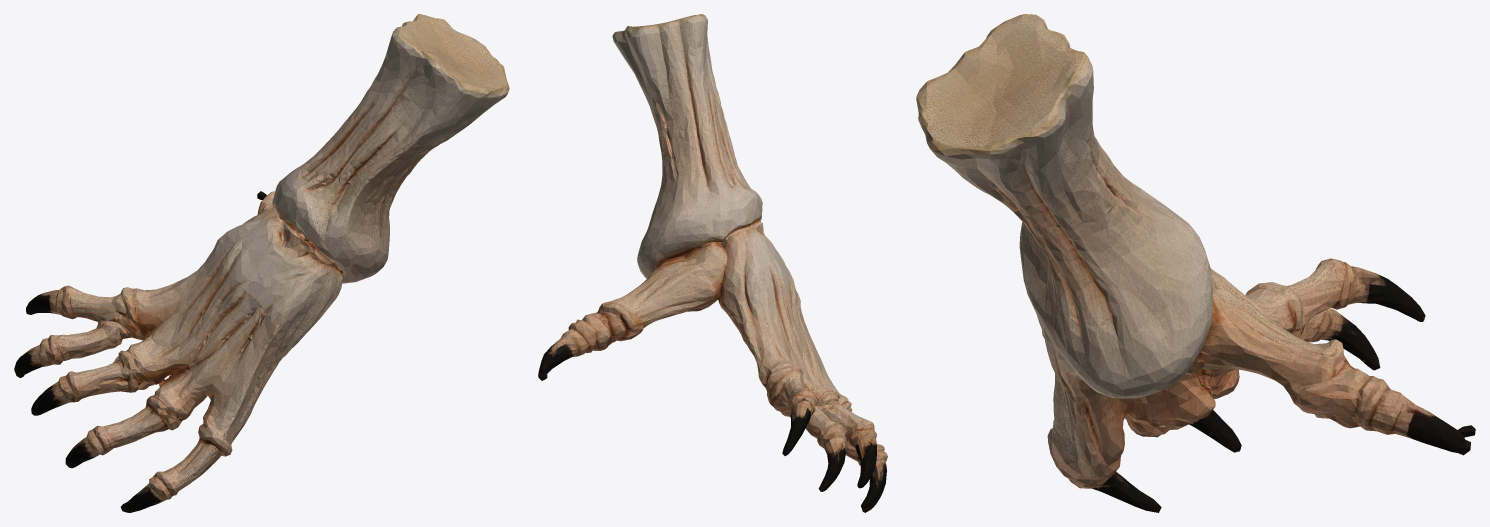
File: foot (50).glb
3 views of the same model, side by side, from view 1: azimuth 30°, elevation 25°; view 2: azimuth 150°, elevation 25°; view 3: azimuth 270°, elevation 25° (orthographic). The views are drawn at different scales.
Parts seen in each view (by area): view 1: Hy21_Mesh.obj; view 2: Hy21_Mesh.obj; view 3: Hy21_Mesh.obj.
Boxes of the visible parts, left/top/right/bottom form: Hy21_Mesh.obj: left=14, top=14, right=509, bottom=512; Hy21_Mesh.obj: left=538, top=14, right=887, bottom=512; Hy21_Mesh.obj: left=916, top=14, right=1475, bottom=512.
Size of the model in its own units: 1.66 by 1.96 by 1.5.
Materials: 1 (1 with a texture image).
